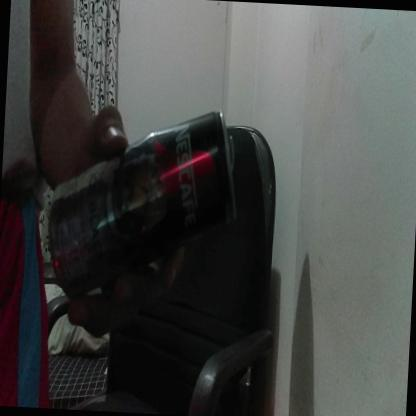alumunium_can: (46, 102, 242, 312)
